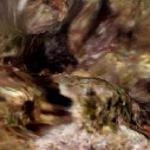alive: (15, 9, 146, 148)
